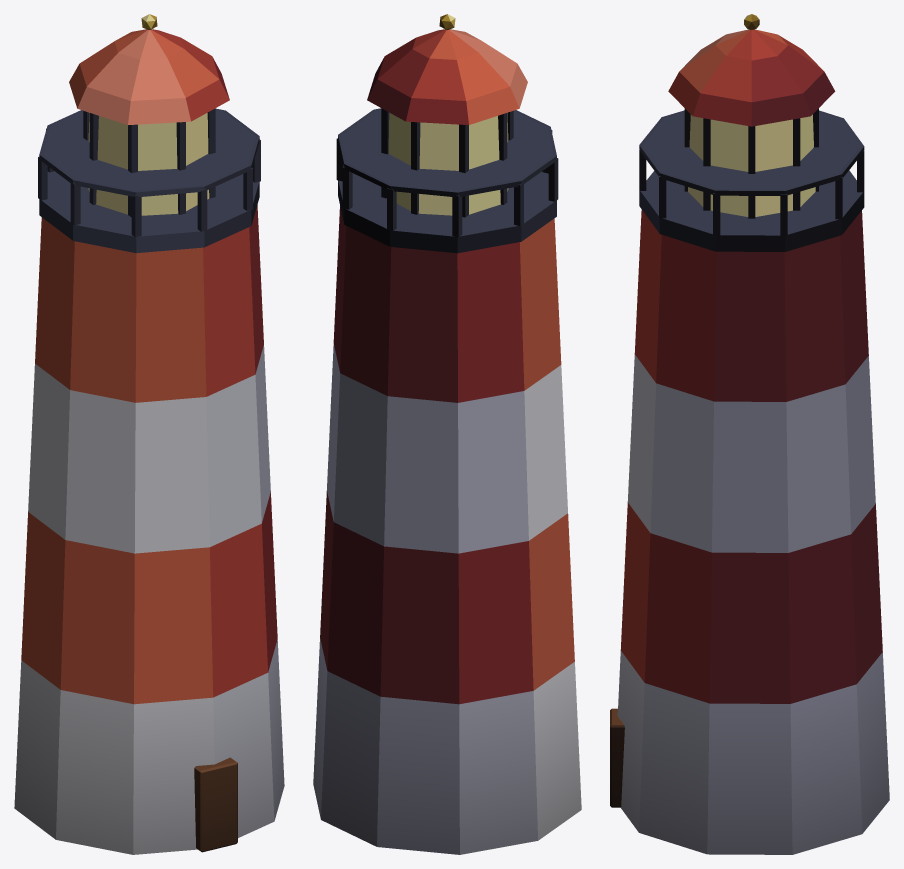
The model's file is lighthouse.glb.
3 renders of one model, left to right at view 1: azimuth 30°, elevation 25°; view 2: azimuth 150°, elevation 25°; view 3: azimuth 270°, elevation 25°, orthographic.
Visible parts, largest first — view 1: lighthouse; view 2: lighthouse; view 3: lighthouse.
Boxes of the visible parts, x1,y1,x2,y2 form: lighthouse: (14,14,284,854); lighthouse: (313,14,581,854); lighthouse: (610,14,889,854).
Bounding box in the file's own units: 1.45 × 4.77 × 1.54.
